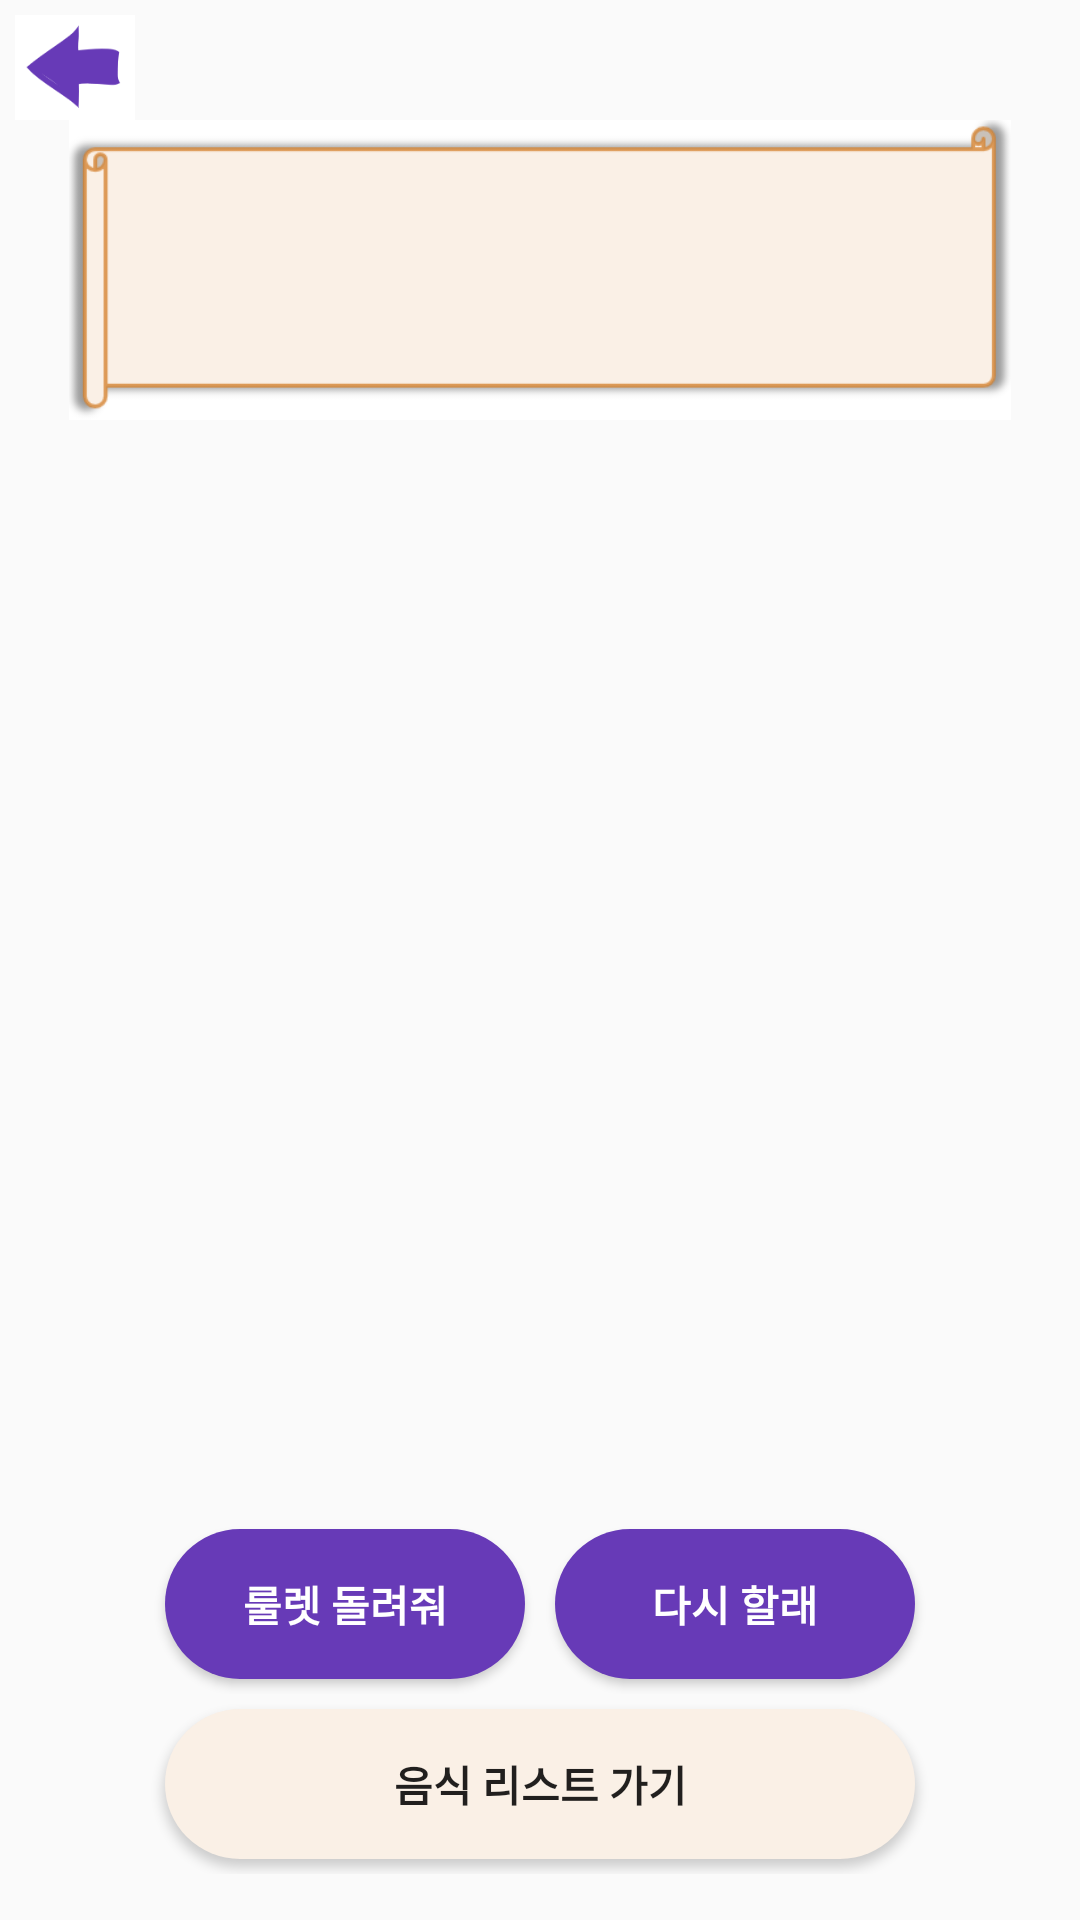

Where to tap for icons on this 1080px x 1920px app screen, as (x=x, y=y):
back: (x=73, y=66)
